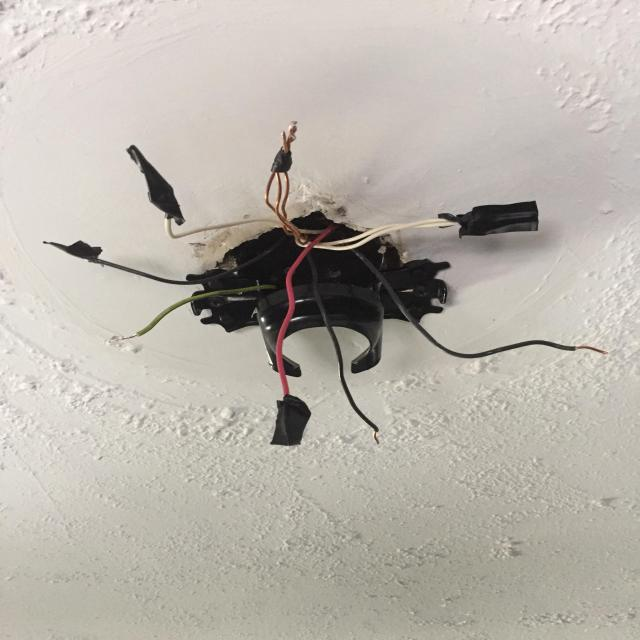fans: (44, 121, 607, 445), (352, 249, 608, 358), (307, 252, 379, 444), (276, 223, 334, 395), (108, 284, 277, 343), (108, 285, 275, 344), (247, 298, 249, 299)
